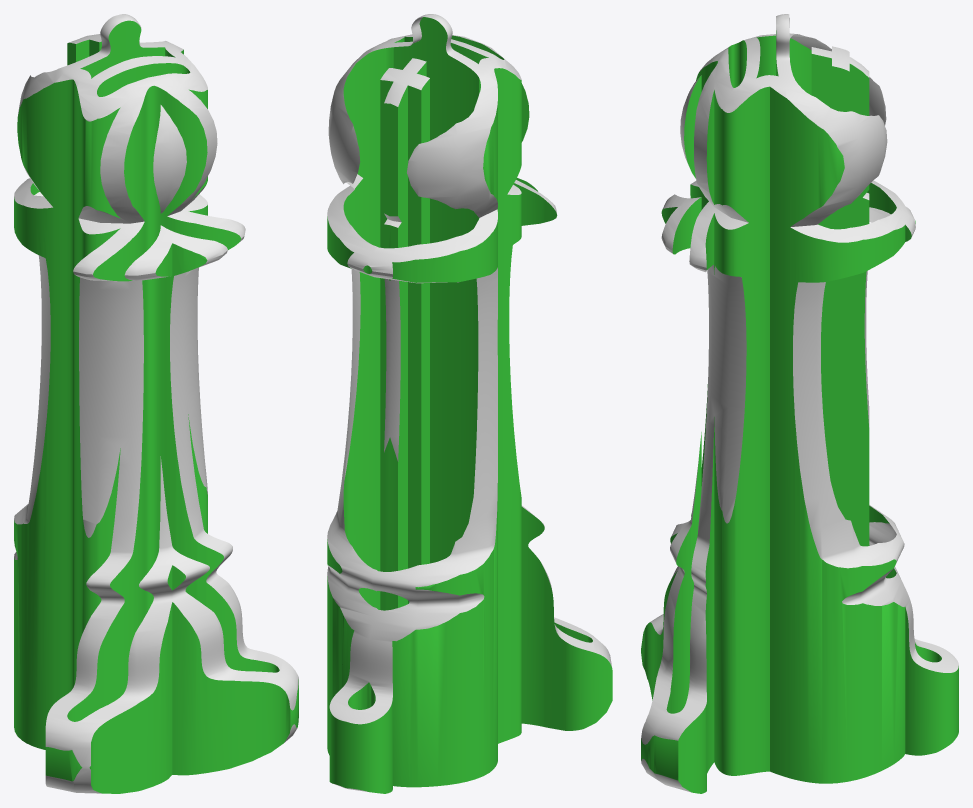
File: White_Bishop.fbx
3 renders of one model, left to right at view 1: azimuth 30°, elevation 25°; view 2: azimuth 150°, elevation 25°; view 3: azimuth 270°, elevation 25°, orthographic.
Visible parts, largest first — view 1: White_Bishop; view 2: White_Bishop; view 3: White_Bishop.
Boxes of the visible parts, <box> form: White_Bishop: <box>14,14,298,793</box>; White_Bishop: <box>327,14,612,793</box>; White_Bishop: <box>641,14,958,793</box>.
Size of the model in its own units: 43.82 by 47.01 by 119.
